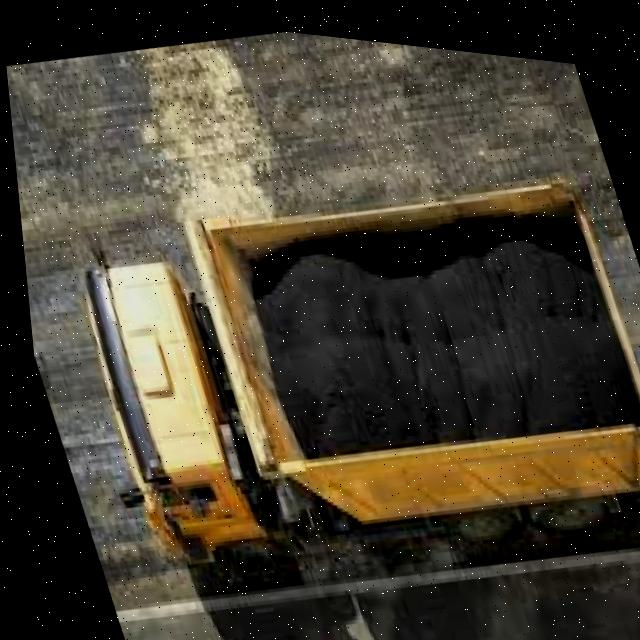truck: (41, 112, 640, 601)
